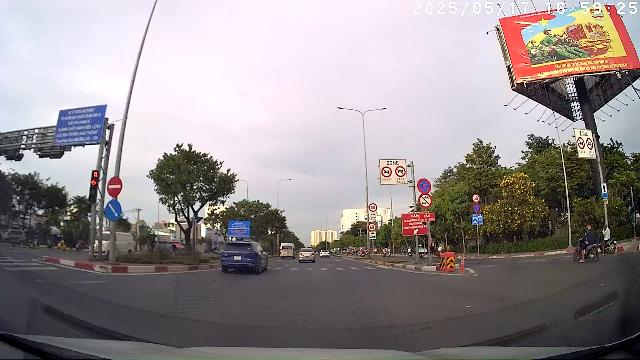127-toc-do-toi-da-60: (472, 195, 480, 204), (368, 223, 376, 231)
127-toc-do-toi-da-80: (369, 202, 377, 211)
130-cam-dung-va-do-xe: (417, 179, 431, 194)
131a-cam-do-xe: (474, 204, 481, 212)
